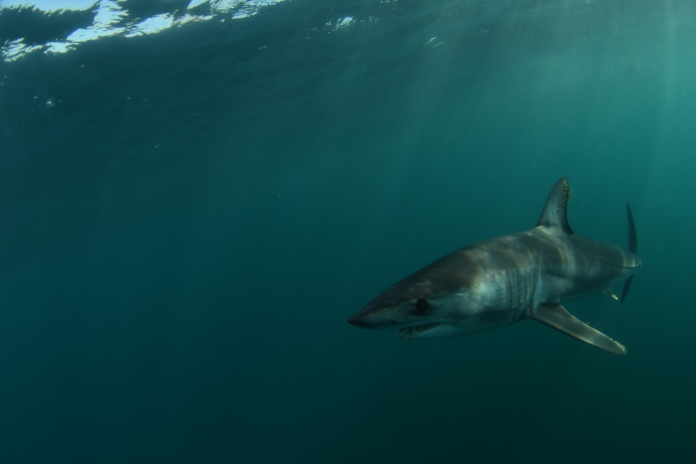Mako: (334, 172, 656, 374)
